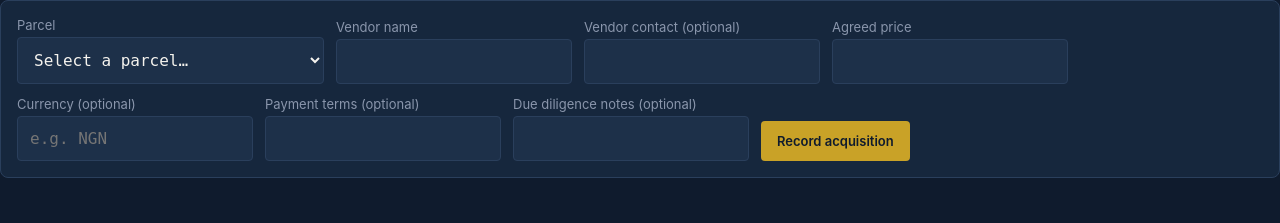
Test case: RecordAcquisitionForm › shows a success message after a successful submission
Select "LP-001 — Riverside Parcel A" in the dropdown labelled "Parcel". click: (170, 60)
box: [17,37,324,84]
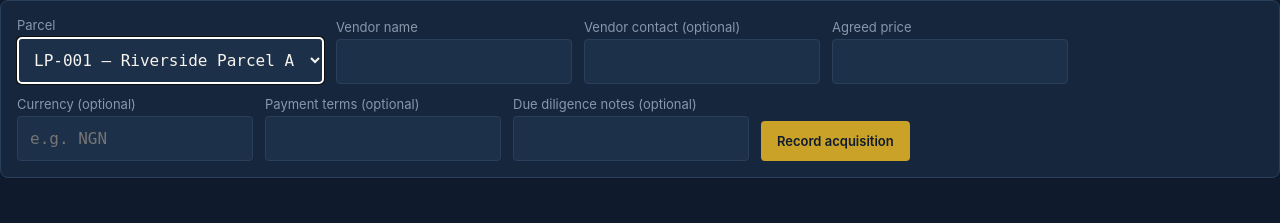
Type "Acme Land Holdings" into the field labelled "Vendor name". click: (454, 62)
box: [336,39,572,84]
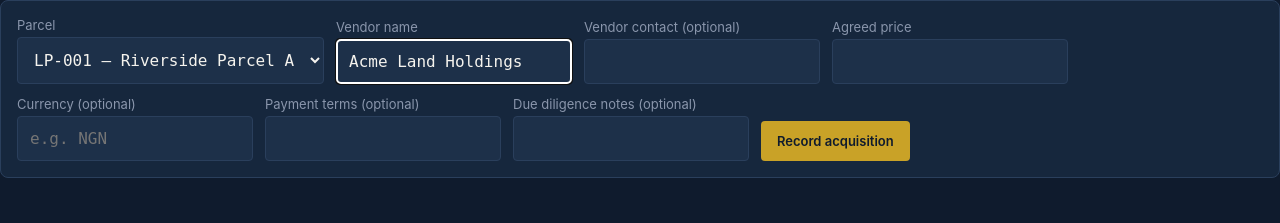
Type "5000000" into the number field labelled "Agreed price". click: (950, 62)
box: [832,39,1068,84]
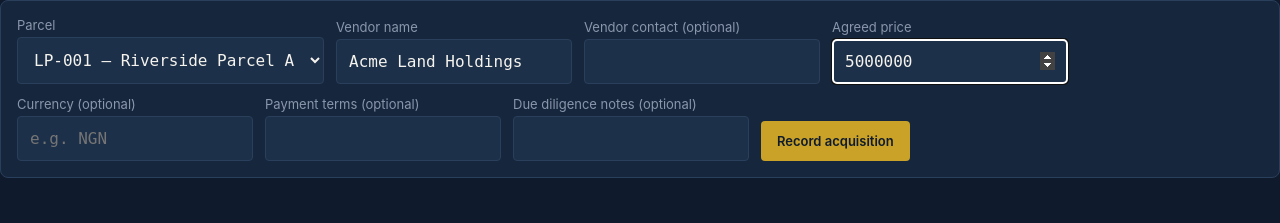
Click the button "Record acquisition". click: click(835, 141)
box: [761,121,910,161]
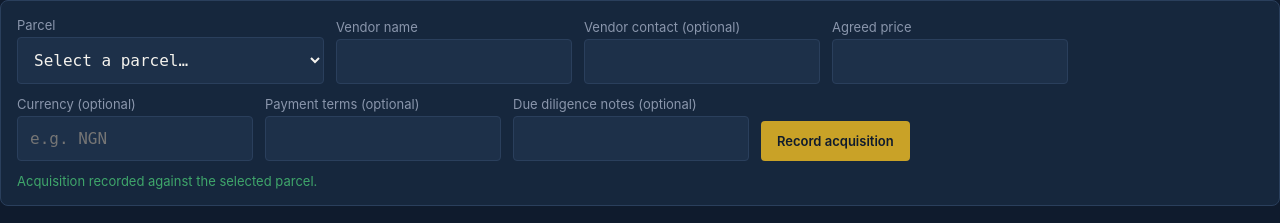
Expected: the text "Acquisition recorded against the selected parcel." is shown, [17,173,317,189]
